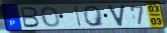7: (129, 5, 145, 26)
B: (20, 6, 41, 29)
I: (74, 5, 83, 28)
O: (40, 6, 61, 28)
Q: (82, 5, 106, 28)
V: (107, 4, 126, 27)
